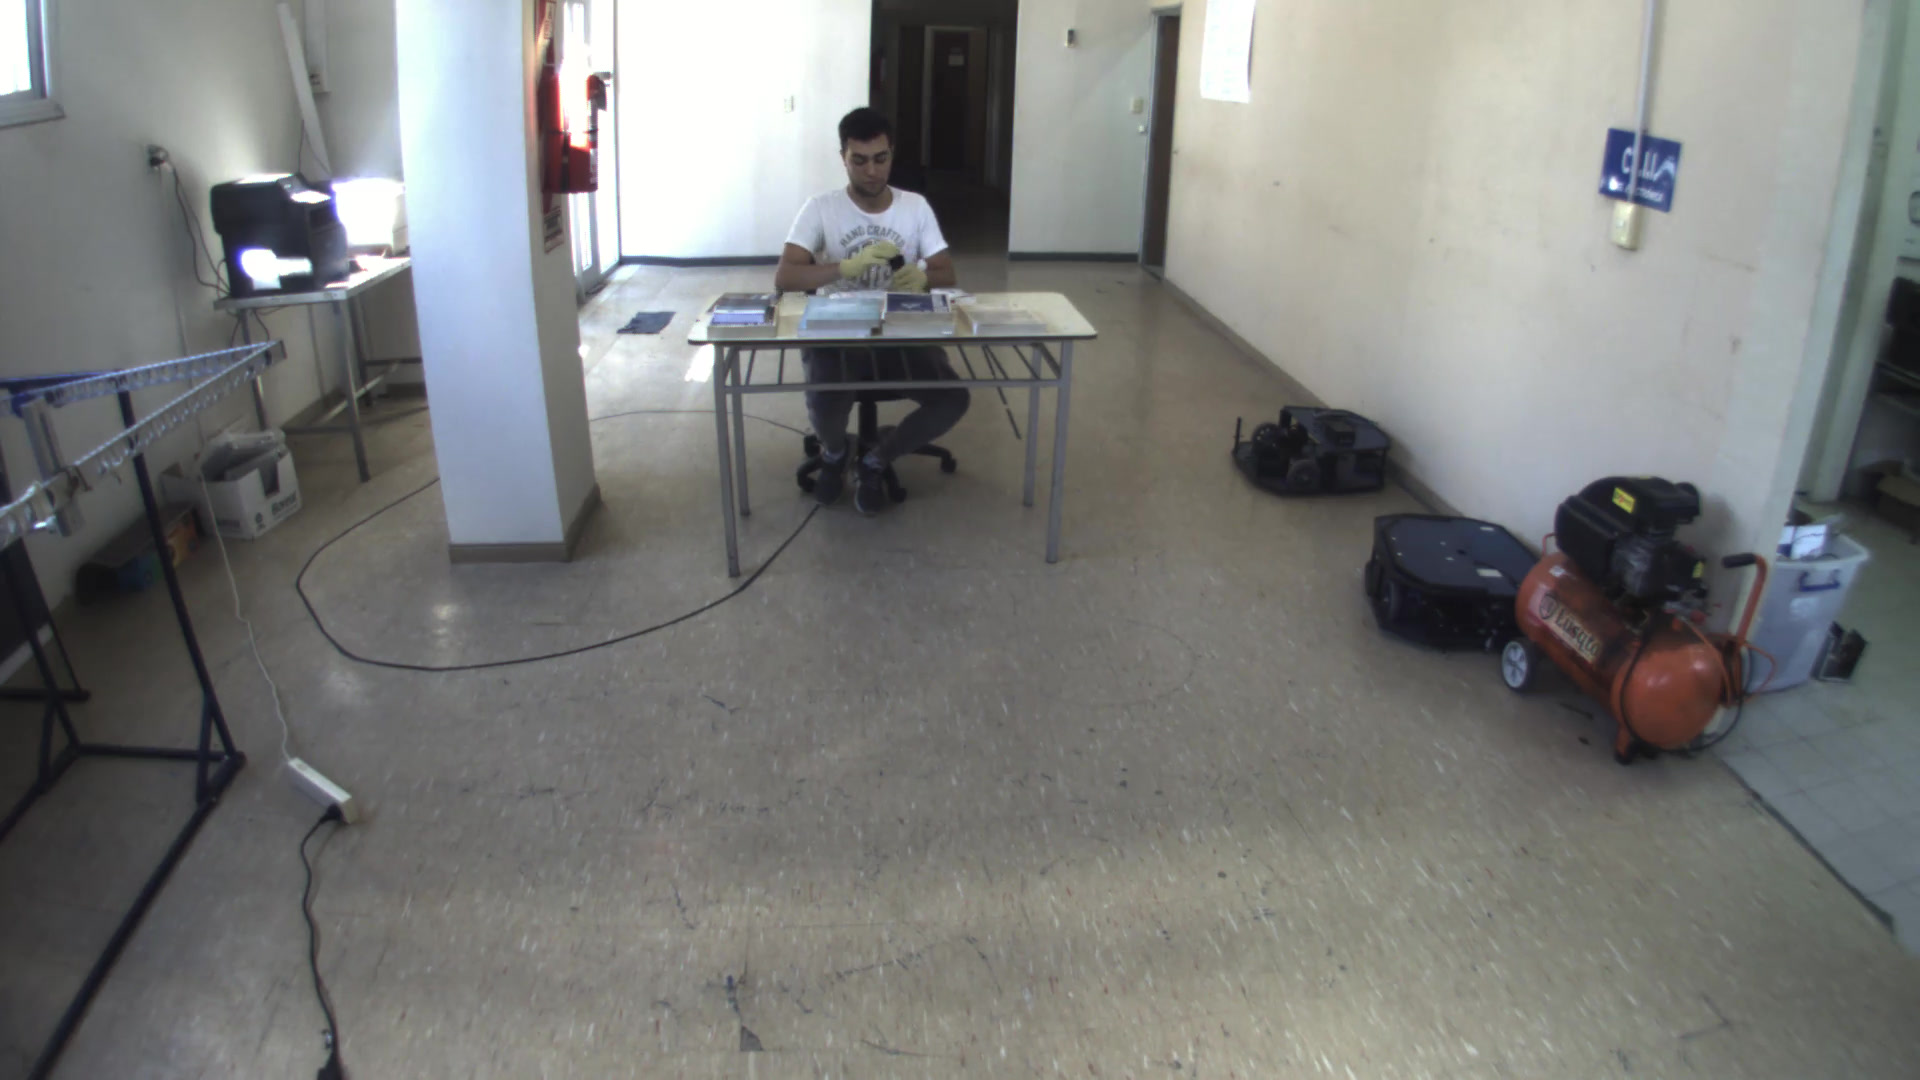hand: (833, 243, 894, 280), (885, 264, 928, 294)
